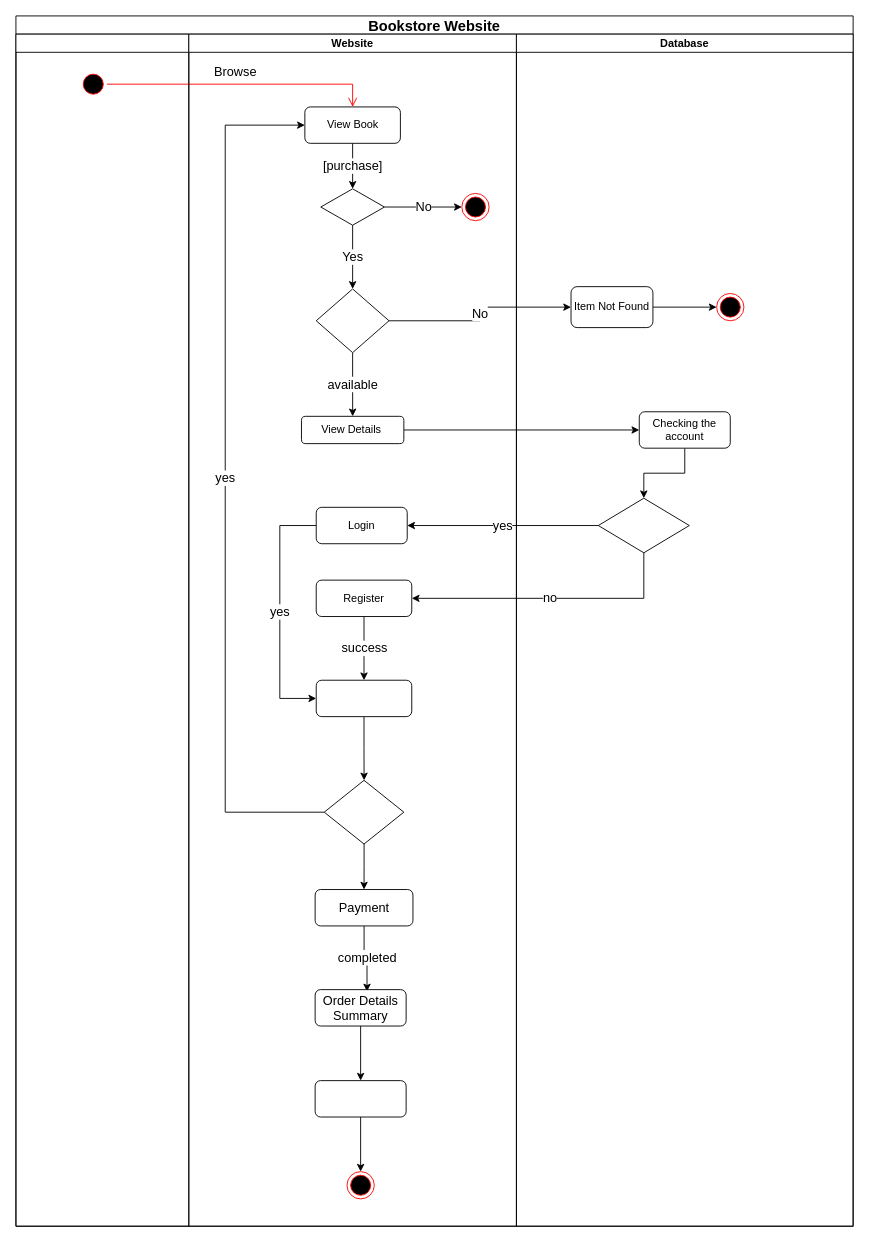
The diagram is 869 pixels wide and 1242 high, and some of its shapes have lost their labels. The shapes that lost their labels are listed below. From the top down, each one's box as (x1, y1, x2, y2) in pixels, then its label:
(315, 288, 389, 353): Product available
(597, 497, 689, 553): Is a member ?
(15, 33, 189, 1226): Customer
(315, 679, 412, 717): Book Added to Cart
(323, 779, 404, 844): Continue ?
(314, 1080, 406, 1117): Signout
